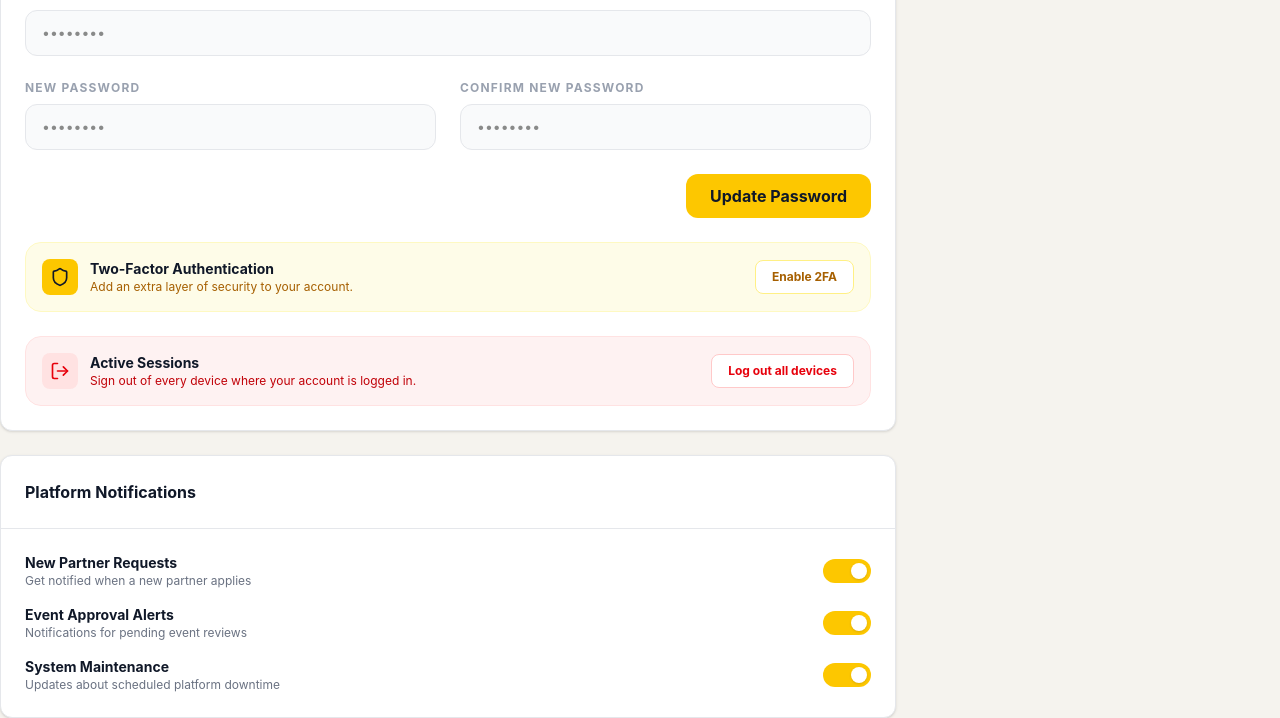
Test case: Settings › shows a confirm step for logging out all devices
This screenshot has width=1280, height=718.
(page scrolled)
Expected: the text "Active Sessions" is shown, [90,354,199,371]
Click the button "Log out all devices" at (783, 371), box [711,354,854,388]
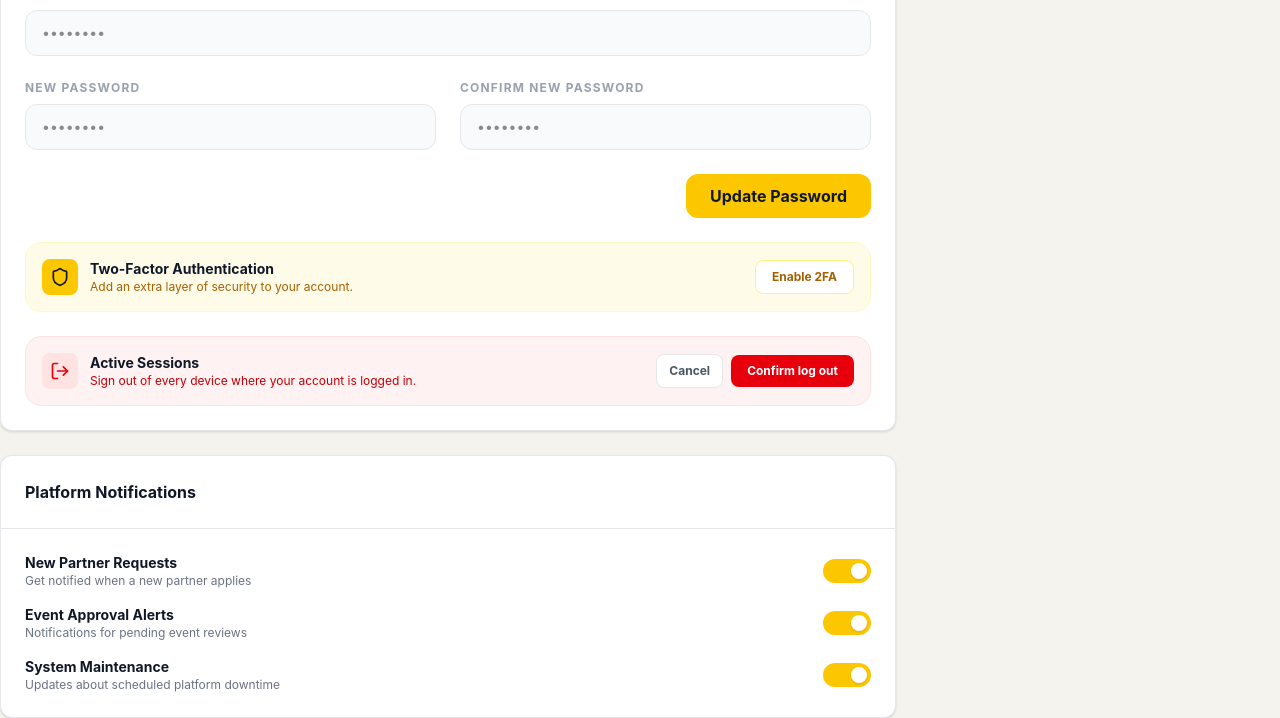
Expected: the button "Confirm log out" is shown, [731,355,854,387]
Expected: the button "Cancel" is shown, [656,354,723,388]
